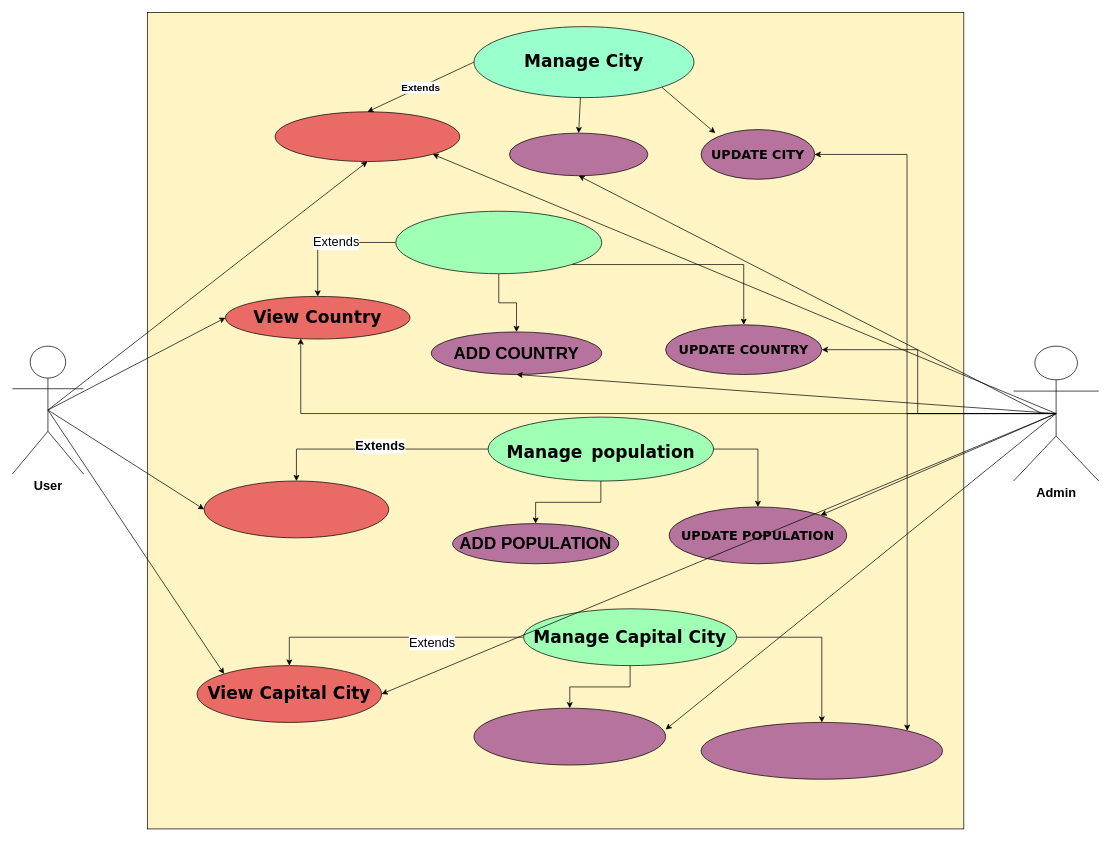
This 1111x841 diagram has some shape labels left out. The shapes that lost their labels are listed below. From the top down, each one's centre as x and y in pixels, then its label:
point 367,136: View City
point 578,154: ADD CITY
point 498,242: Manage Country
point 296,509: View Population
point 569,736: ADD CAPITAL CITY
point 821,750: UPDATE CAPITAL CITY
